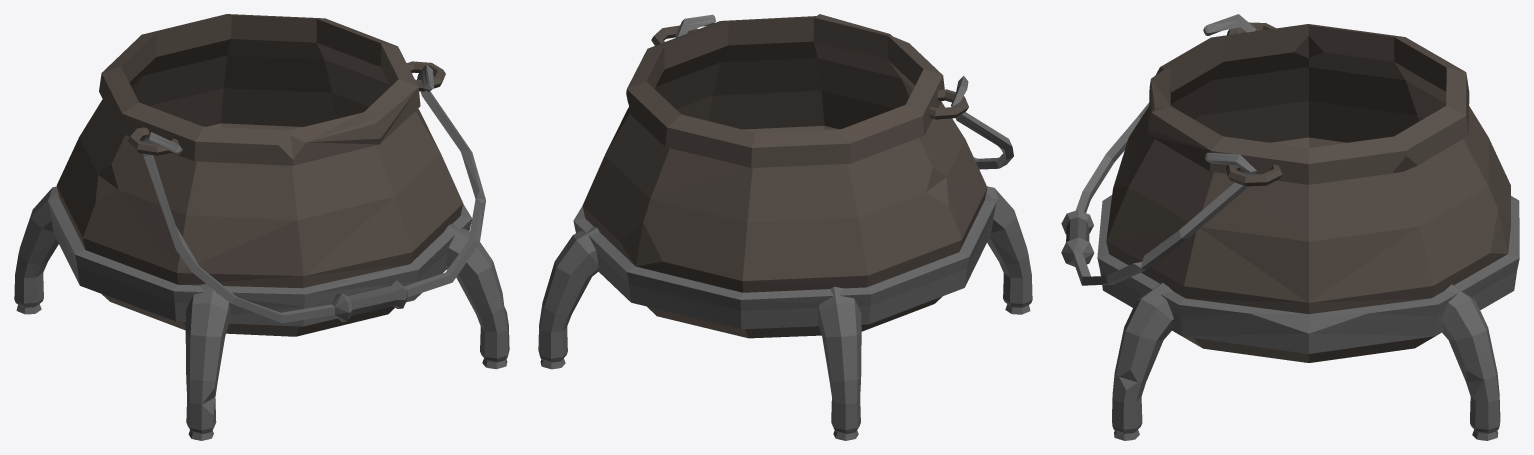
File: SFHW_Cauldron_002.fbx
The picture shows the model from 3 angles, left to right: view 1: azimuth 30°, elevation 25°; view 2: azimuth 150°, elevation 25°; view 3: azimuth 270°, elevation 25°; orthographic projection. The views are drawn at different scales.
Visible parts, largest first — view 1: SFHW_Cauldron_002; view 2: SFHW_Cauldron_002; view 3: SFHW_Cauldron_002.
Boxes of the visible parts, x1,y1,x2,y2 form: SFHW_Cauldron_002: (14, 14, 509, 440); SFHW_Cauldron_002: (538, 14, 1032, 440); SFHW_Cauldron_002: (1061, 14, 1519, 440).
Bounding box in the file's own units: 92.44 × 64.25 × 96.85.
